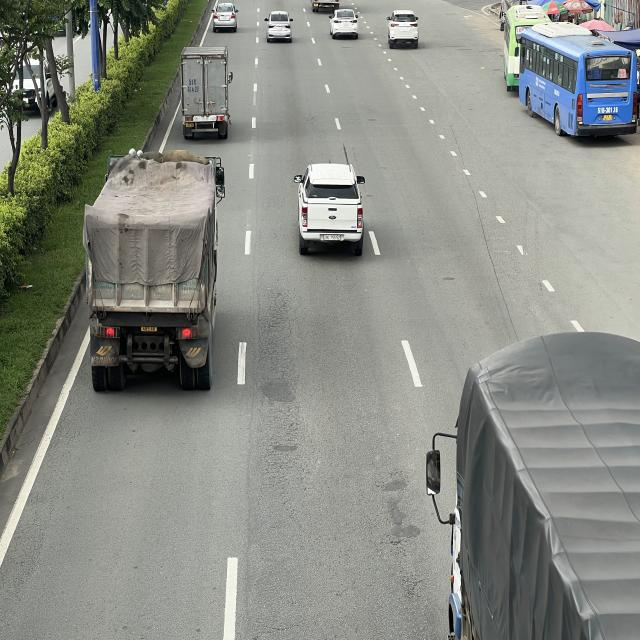car: (292, 160, 366, 255), (388, 10, 421, 50), (330, 10, 360, 40), (266, 11, 294, 43), (212, 2, 239, 35)
coach: (514, 23, 636, 138), (501, 4, 544, 88)
container: (81, 151, 223, 393)
truck: (422, 334, 639, 640), (181, 47, 234, 140)
